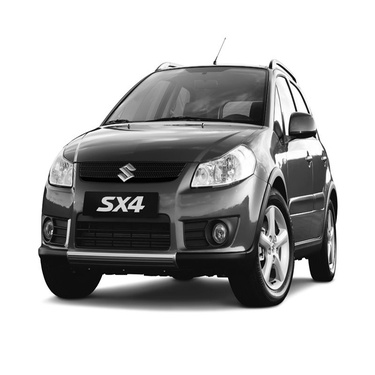car: (28, 37, 349, 312)
